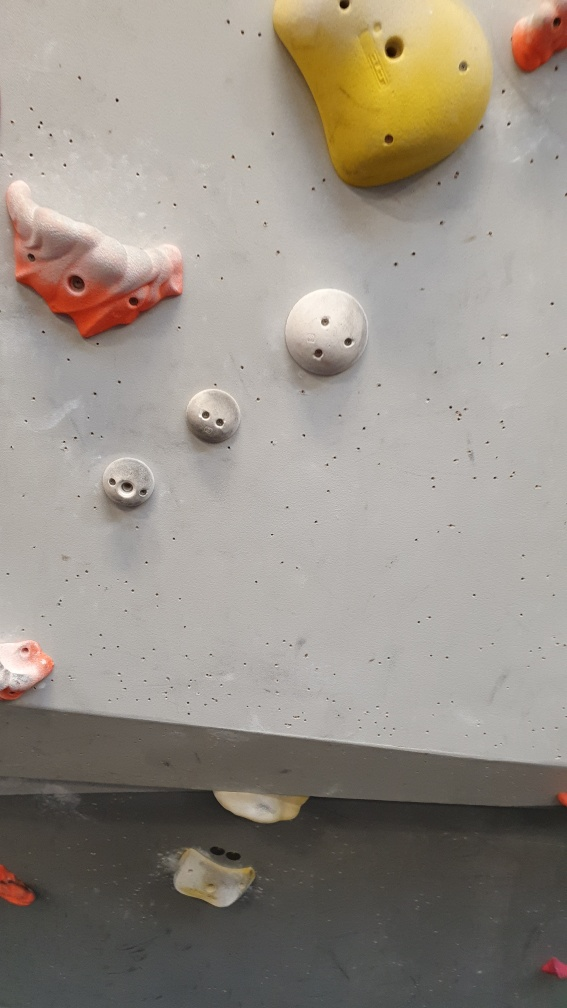Hand Start: (224, 847, 245, 864), (210, 845, 226, 859)
Jug: (2, 170, 190, 344), (503, 1, 567, 75), (1, 865, 42, 914)
Sloper: (279, 282, 372, 388), (181, 385, 248, 449), (98, 454, 160, 517)
